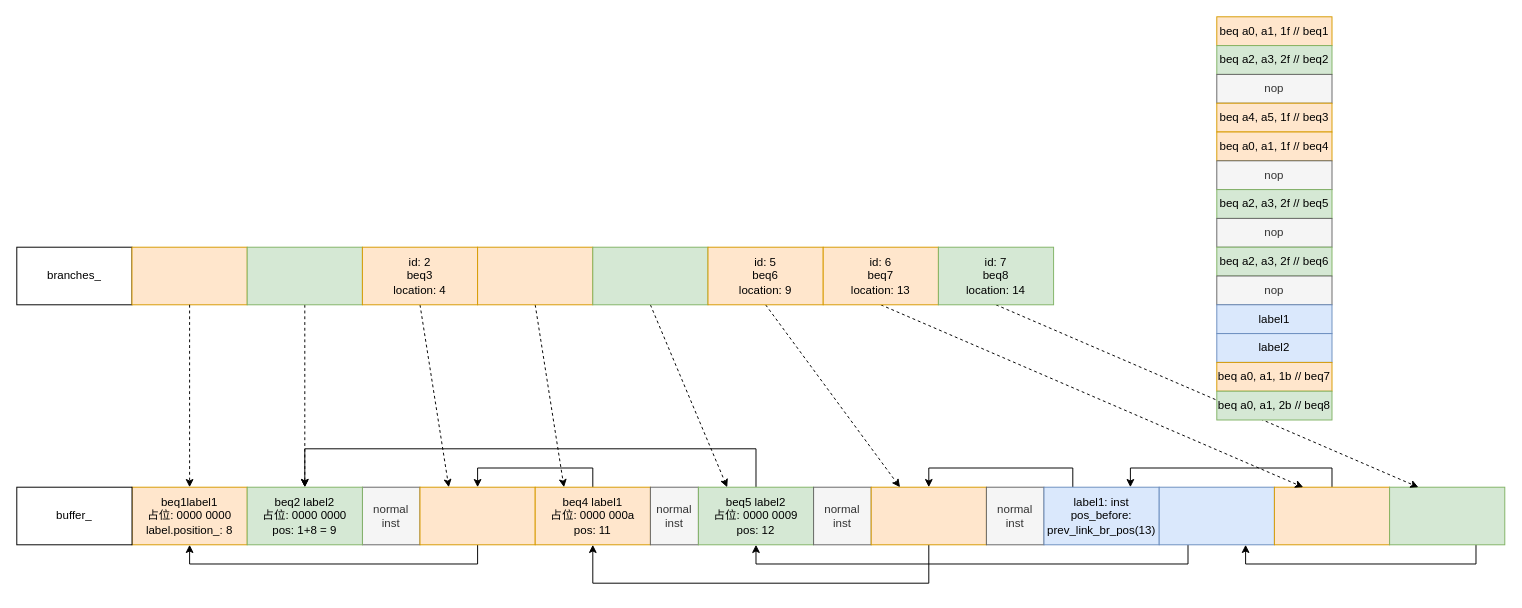
Image size: 1522x608. Some labels were removed from this diagram. The shapes that lost their labels are listed below. From the top down, each one's centre as x and y in pixels, then its label:
At point (189, 275): "branch_id: 0 beq1 location: 1".
At point (304, 275): "id: 1 beq2 location: 2".
At point (535, 275): "id: 3 beq4 location: 5".
At point (650, 275): "id: 4 beq5 location: 7".
At point (477, 515): "beq3 label1 占位: 0000 0008 pos: 10".
At point (928, 515): "beq6 label1 占位: 0000 000b pos: 13".
At point (1216, 515): "label2: inst pos_before: -addr(2-prev_br)-8".
At point (1331, 515): "beq7 label1 占位: Nop() pos: pos1_after".
At point (1447, 515): "beq8 label2 占位: Nop() pos: pos2_after".
